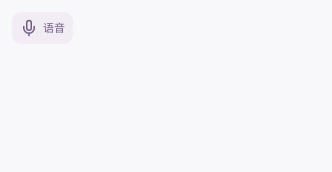
Scenario: director voice input › stops the microphone when closed, and never uploads cancelled or background recordings
Later steps or results of the test are not shown.
What coordinates should you click on to do the following:
click the button with aria-label "语音输入"
I would click on:
 (42, 28)
Its box is [12,12,73,44].
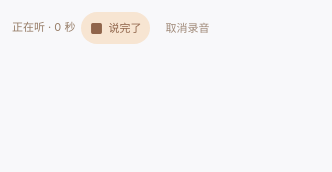
Result: the text "正在听 · 0 秒" is shown at [12,19,75,37]
